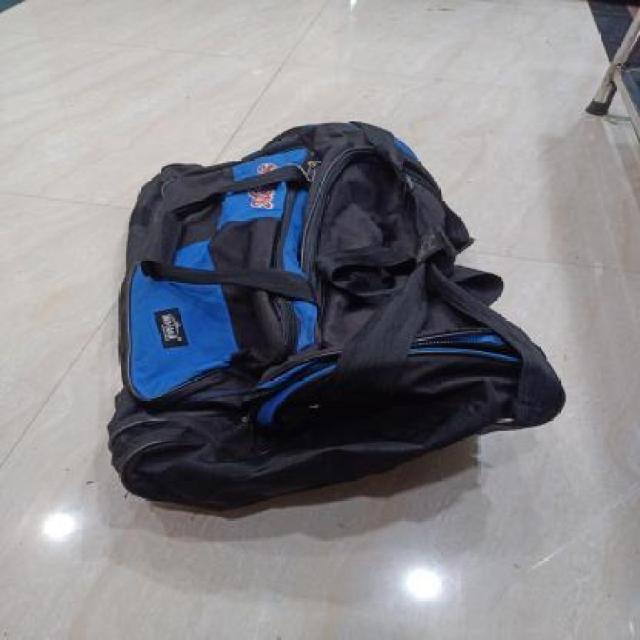backpack: (104, 117, 570, 514)
